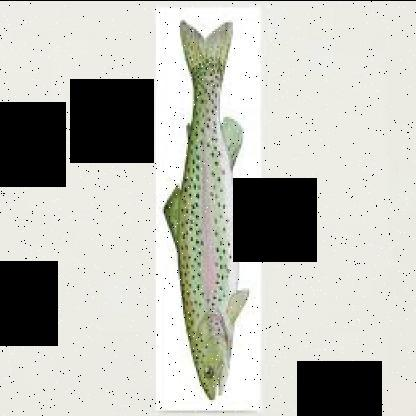fish: (162, 20, 250, 402)
